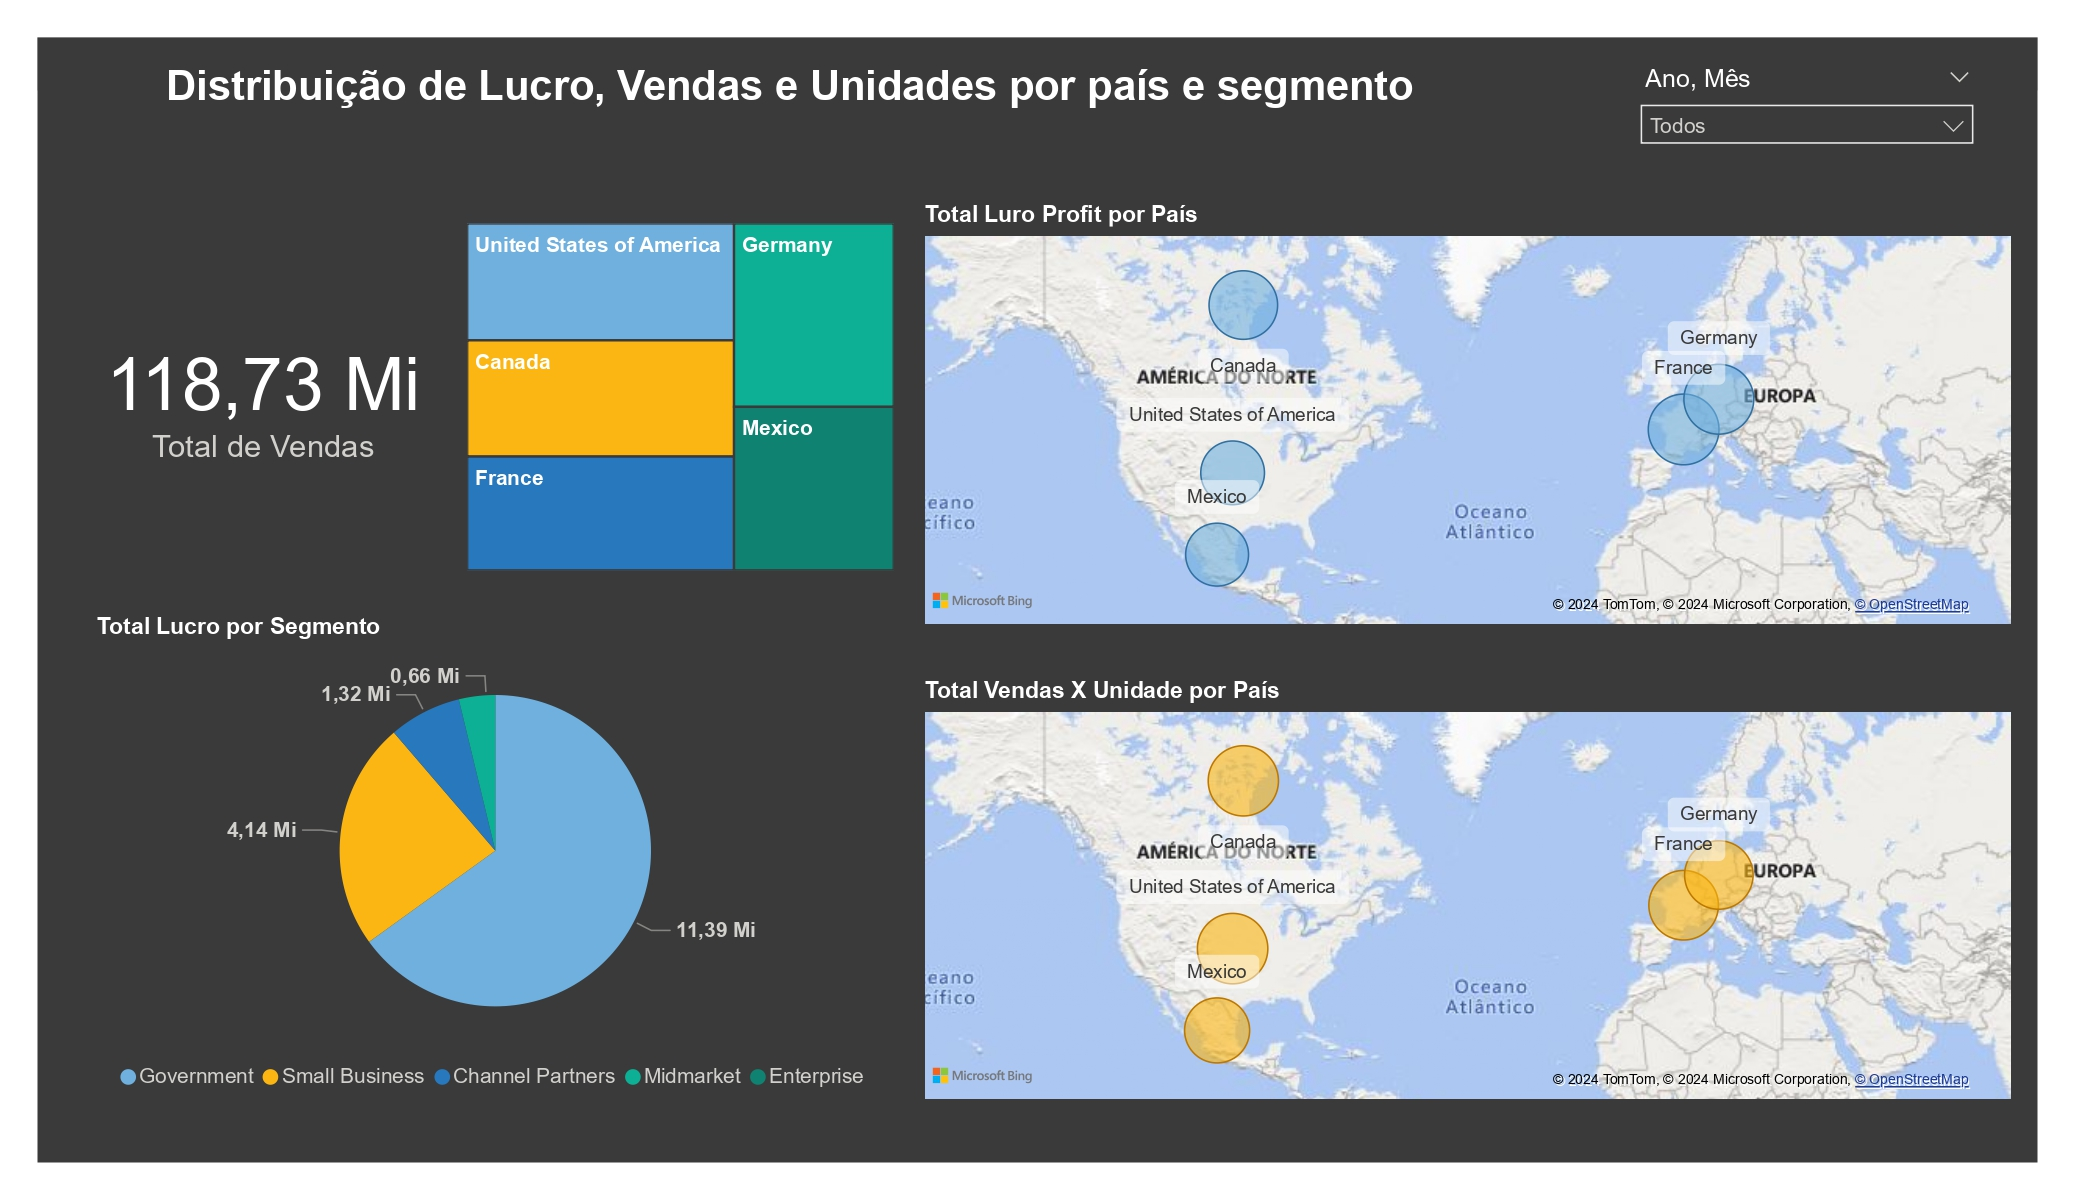

The page's visual inventory and layout, read from the dashboard file:
{"tool":"powerbi","page":{"name":"Página 1","canvas":[1280,720],"ordinal":0},"visuals":[{"type":"pieChart","title":"Total Lucro por Segmento","fields":{"Category":["financials.Segment"],"Y":["Sum(financials.Profit)"]},"box":[32.5,368.8,520,315],"z":0},{"type":"map","title":"Total  Vendas X  Unidade por País","fields":{"Category":["financials.Country"],"Size":["Sum(financials. Sales)"]},"box":[562.5,410,705,273.8],"z":1000},{"type":"map","title":"Total Lucro Profit por País","fields":{"Category":["financials.Country"],"Size":["Sum(financials.Profit)"]},"box":[562.5,105,705,275],"z":2000},{"type":"textbox","box":[18.8,11.2,925,61.2],"z":3000},{"type":"slicer","fields":{"Values":["financials.Date.Variation.Hierarquia de datas.Ano","financials.Date.Variation.Hierarquia de datas.Mês"]},"box":[1016.2,12.5,232.5,61.2],"z":4000},{"type":"card","title":"Total de Vendas","fields":{"Values":["Sum(financials. Sales)"]},"box":[18.8,113.8,251.2,232.5],"z":5000},{"type":"treemap","title":"País","fields":{"Group":["financials.Country"],"Values":["Sum(financials. Sales)"]},"box":[270,113.8,282.5,232.5],"z":6000}]}

Visuals, with their boxes in screenshot pixels (x1, y1, x2, y2):
"Total Lucro por Segmento" pieChart: box=[88, 614, 901, 1106]
"Total  Vendas X  Unidade por País" map: box=[916, 678, 2018, 1106]
"Total Lucro Profit por País" map: box=[916, 202, 2018, 631]
textbox: box=[67, 55, 1512, 151]
slicer - financials.Date.Variation.Hierarquia de datas.Ano x financials.Date.Variation.Hierarquia de datas.Mês: box=[1625, 57, 1989, 153]
"Total de Vendas" card: box=[67, 215, 459, 579]
"País" treemap: box=[459, 215, 901, 579]
